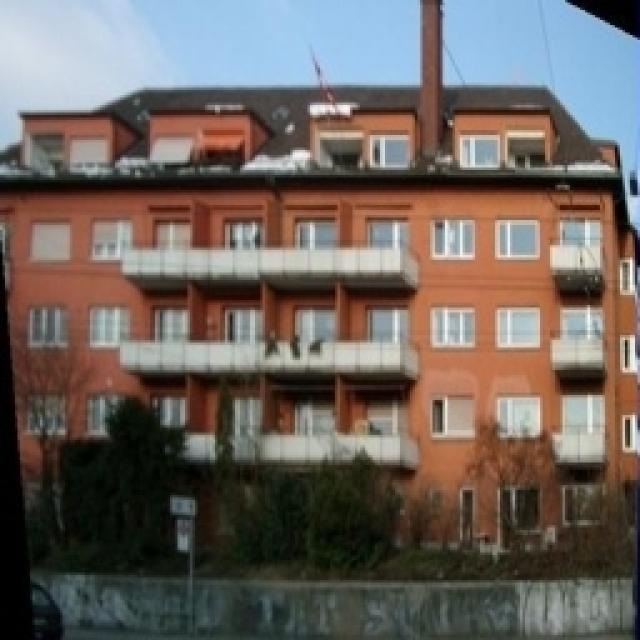building: (2, 77, 639, 640)
